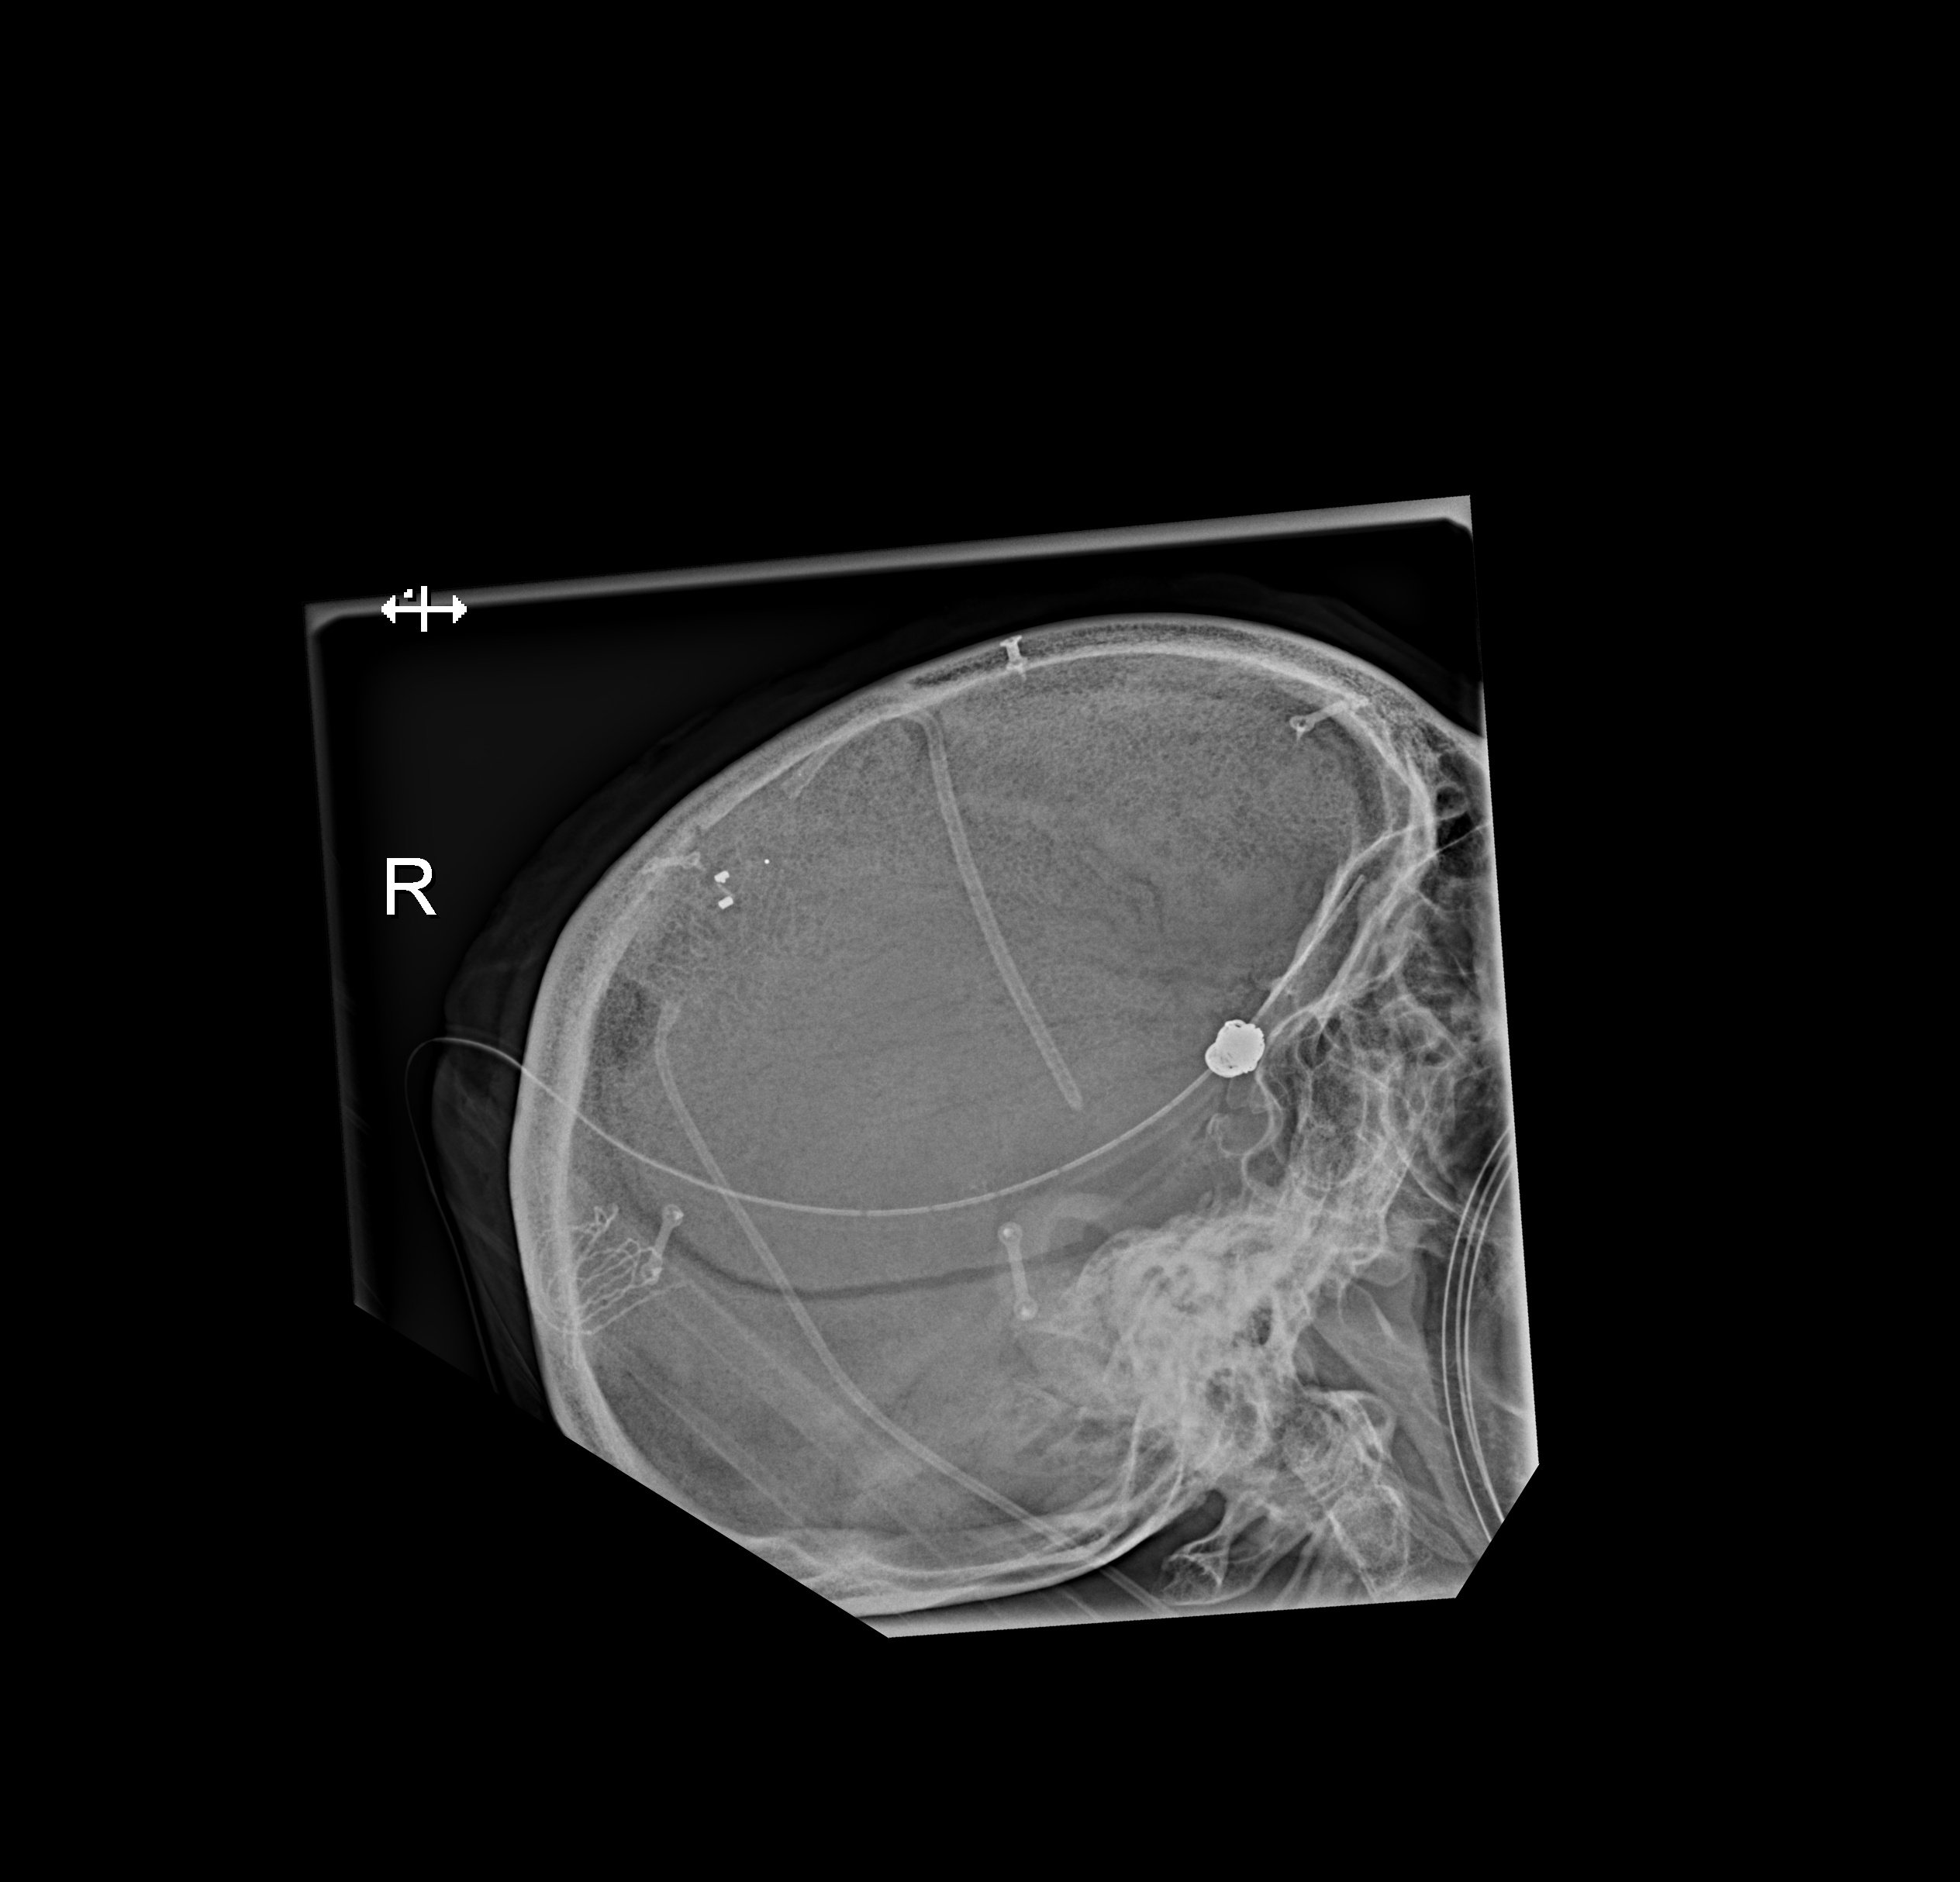Codman Certas: (700, 845, 782, 946)
